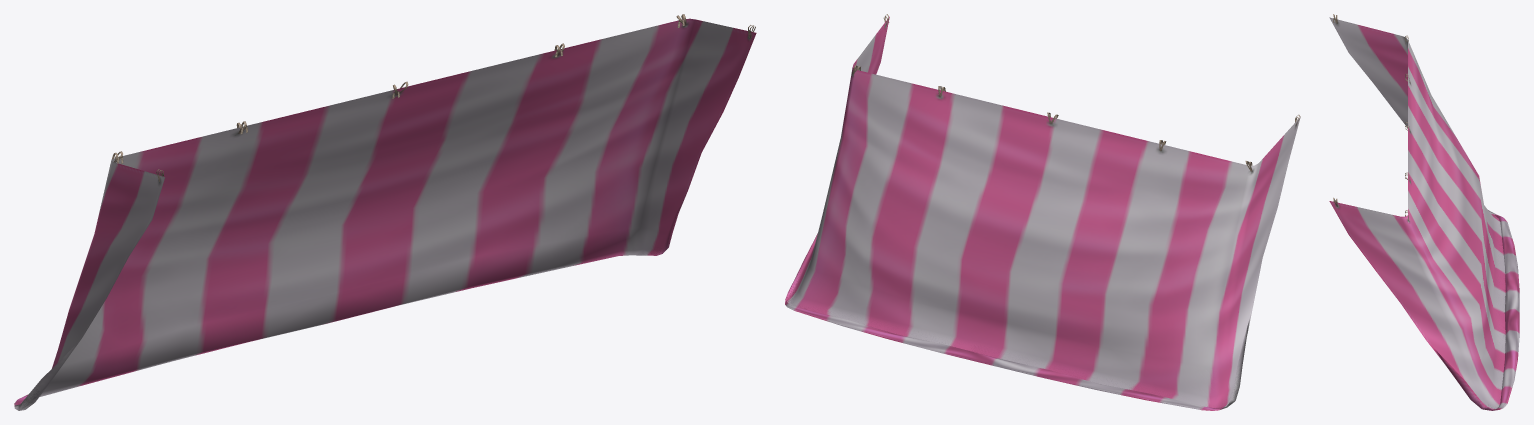
Rendered from jsf_BackSide_s04_c06_t02.fbx.
3 renders of one model, left to right at view 1: azimuth 30°, elevation 25°; view 2: azimuth 150°, elevation 25°; view 3: azimuth 270°, elevation 25°, orthographic. The views are drawn at different scales.
Parts seen in each view (by area): view 1: jsf_BackSide_s04_c06_t02; view 2: jsf_BackSide_s04_c06_t02; view 3: jsf_BackSide_s04_c06_t02.
Part boxes in pixels (x1,y1,x2,y2): jsf_BackSide_s04_c06_t02: (14,14,756,410); jsf_BackSide_s04_c06_t02: (785,14,1300,410); jsf_BackSide_s04_c06_t02: (1329,14,1519,410).
Bounding box in the file's own units: 425 × 205 × 171.
